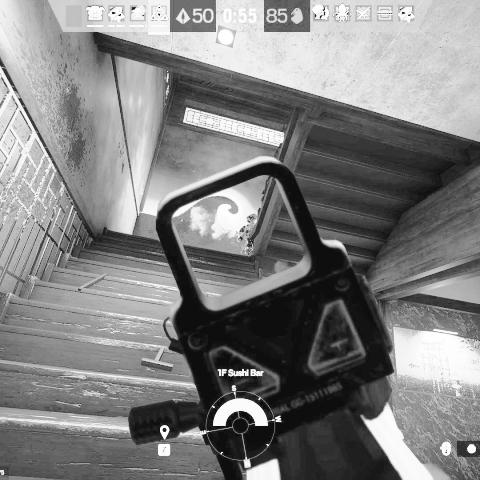Character: (236, 213, 257, 257)
Head: (246, 212, 257, 224)
